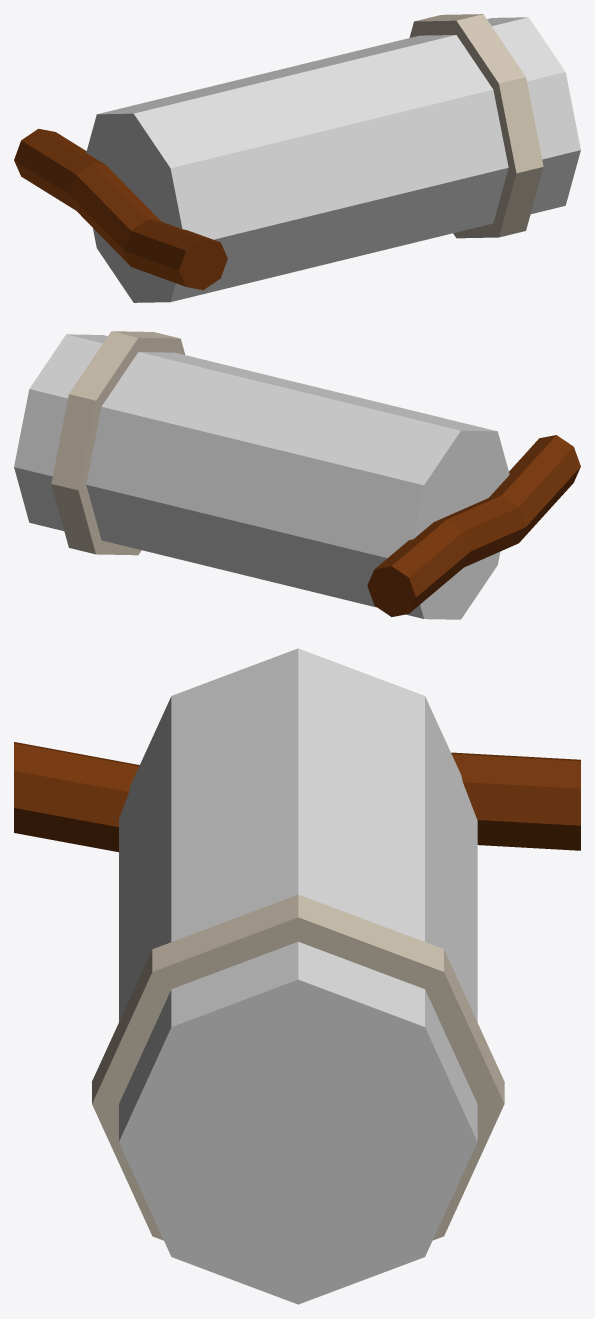
Rendered from Poignée_New_Moyen.FBX.
The picture shows the model from 3 angles, top to bottom: view 1: azimuth 30°, elevation 25°; view 2: azimuth 150°, elevation 25°; view 3: azimuth 270°, elevation 25°; orthographic projection. The views are drawn at different scales.
Parts seen in each view (by area): view 1: Cylinder215; view 2: Cylinder215; view 3: Cylinder215.
Part boxes in pixels (x1=…): Cylinder215: x1=14, y1=14, x2=580, y2=302; Cylinder215: x1=14, y1=331, x2=580, y2=619; Cylinder215: x1=14, y1=648, x2=580, y2=1304.
Size of the model in its own units: 188 by 90.55 by 124.
